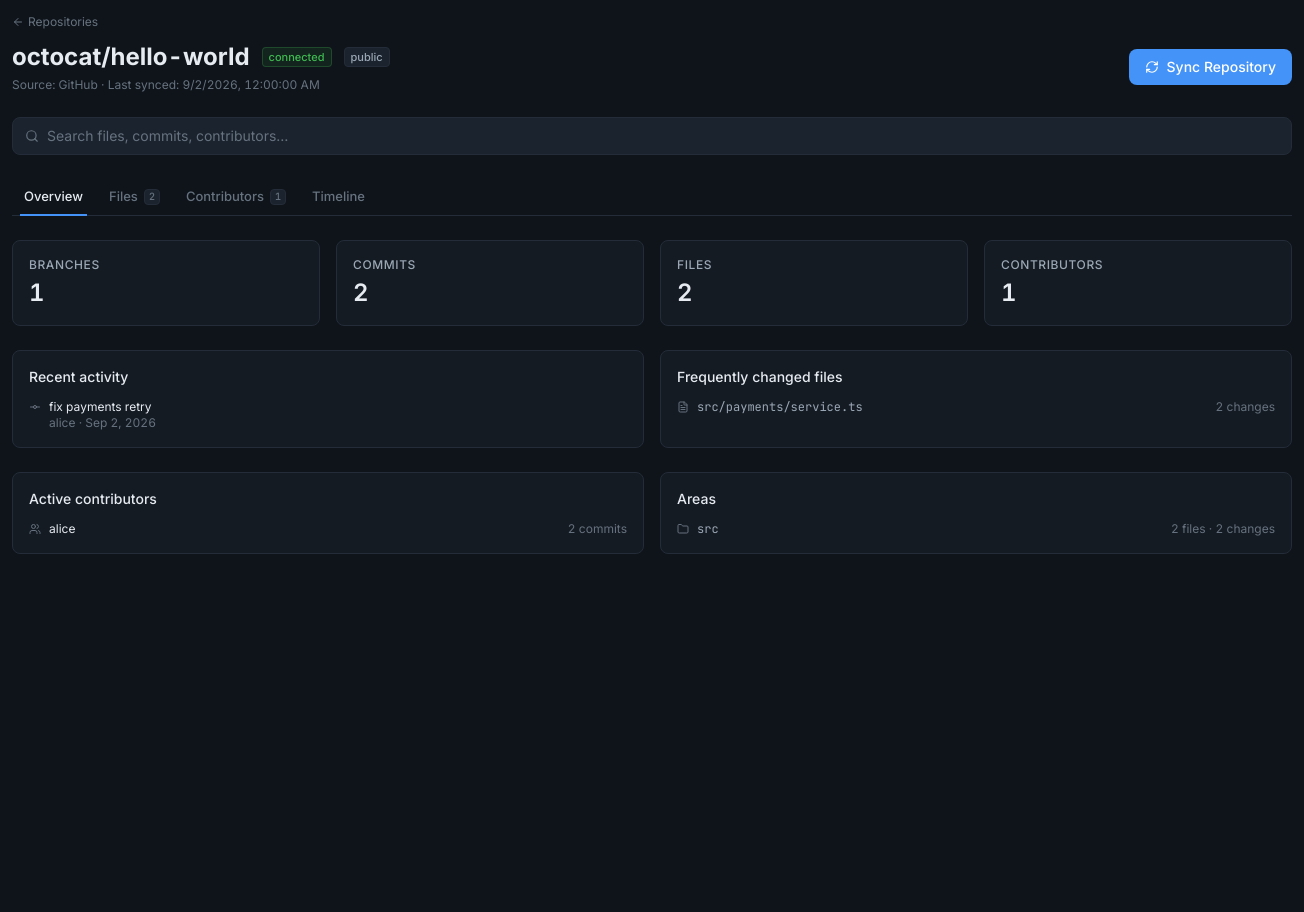
Scenario: RepositoryDetailPage memory workspace › searches synced memory and groups results
Step 1. Type "payments" into the field with placeholder "Search files, commits, contributors…" → (663, 136), box top-left (47, 126), bottom-right (1279, 146)
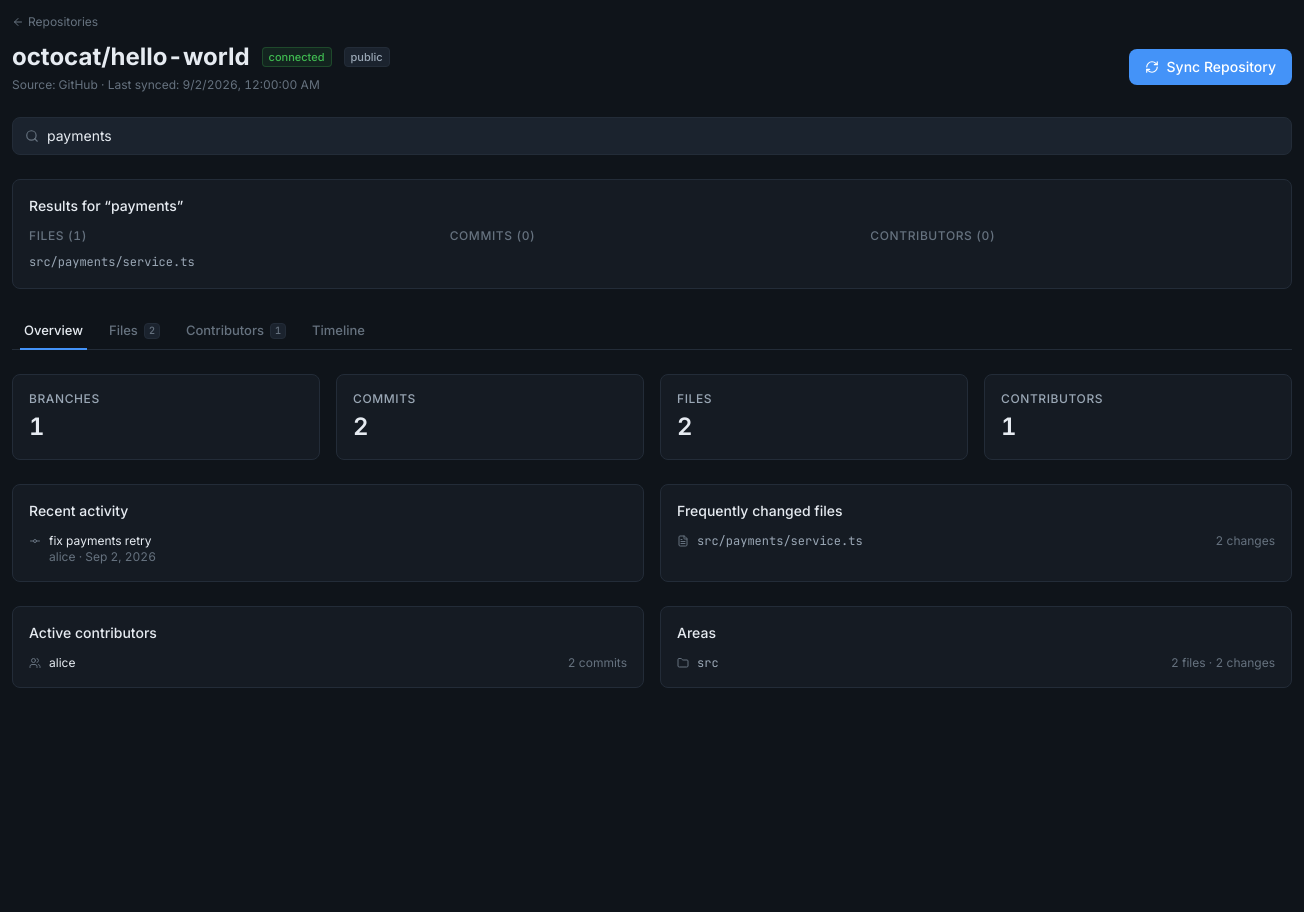
Now the heading "Results for “payments”" is shown, box top-left (29, 197), bottom-right (183, 214)
Now the text "Files (1)" is shown, box top-left (29, 228), bottom-right (87, 243)
